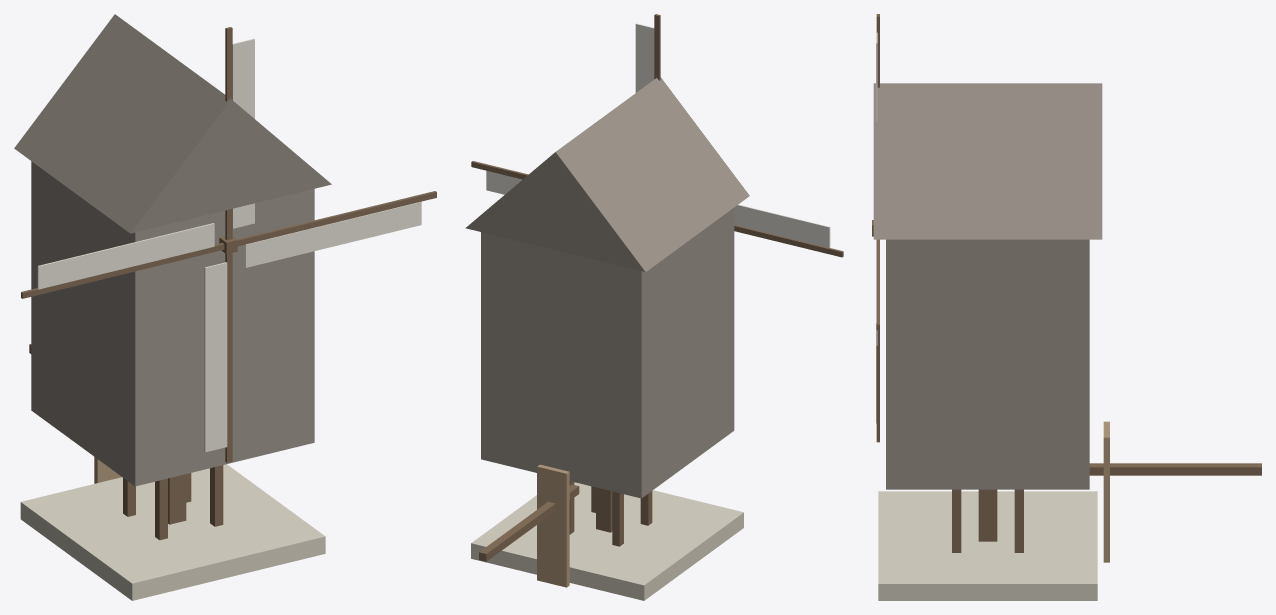
The model's file is windmill.glb.
3 renders of one model, left to right at view 1: azimuth 30°, elevation 25°; view 2: azimuth 150°, elevation 25°; view 3: azimuth 270°, elevation 25°, orthographic. The views are drawn at different scales.
Parts seen in each view (by area): view 1: Windmill; view 2: Windmill; view 3: Windmill.
Part boxes in pixels (bbox=[...]): Windmill: bbox=[14, 14, 436, 600]; Windmill: bbox=[465, 14, 843, 600]; Windmill: bbox=[872, 14, 1261, 600].
Bounding box in the file's own units: 15 × 19 × 12.45.
